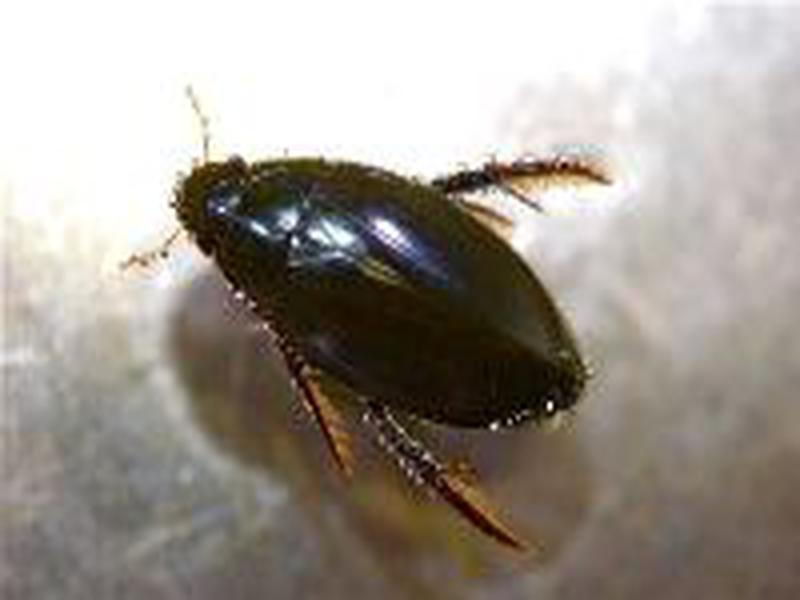Rice_case_worm: (127, 132, 607, 540)
